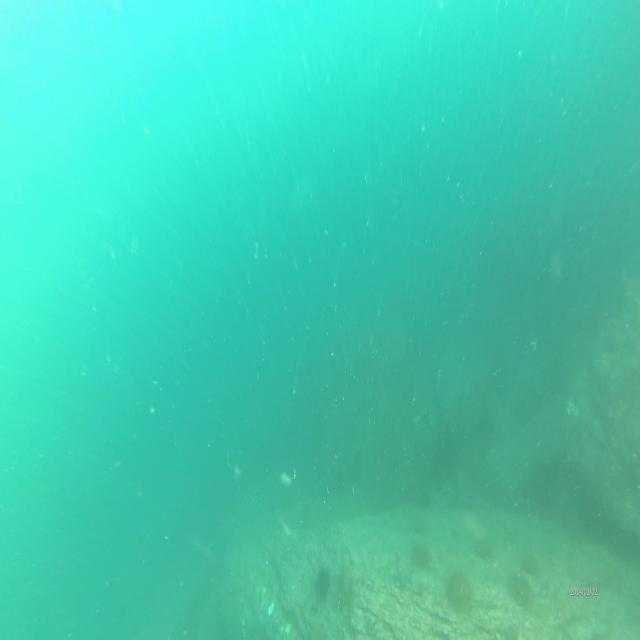echinus: (448, 571, 475, 611), (506, 570, 535, 606), (412, 539, 432, 573), (337, 573, 354, 601), (313, 570, 327, 595)
starfish: (392, 560, 414, 592)
